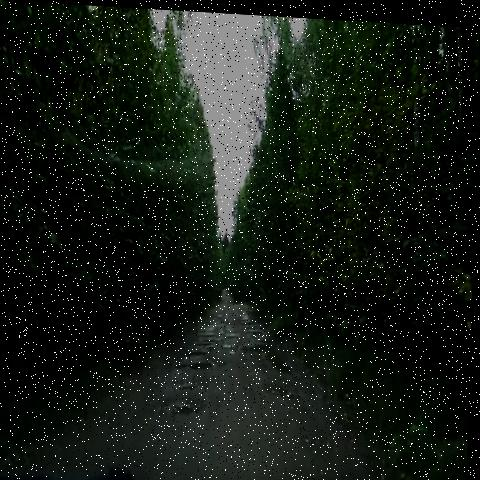pothole: (157, 387, 218, 436), (243, 335, 303, 371), (255, 372, 303, 406), (239, 296, 268, 343), (168, 370, 205, 395), (197, 323, 223, 353), (176, 356, 220, 371), (186, 344, 218, 359), (223, 336, 243, 355)
